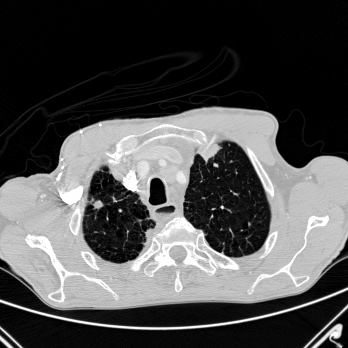nodule: (92, 199, 102, 209)
